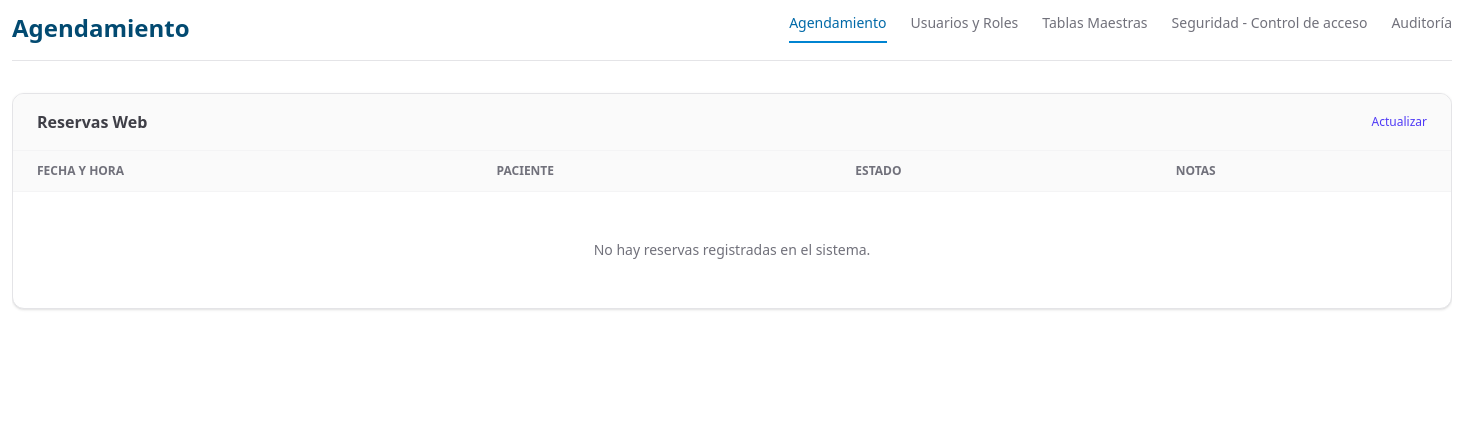
Test: DashboardContent › switches tabs
What coordinates should you click on to do the following:
click the button "Tablas Maestras"
I would click on:
 (1095, 28)
Its box is [1042,13,1148,43].
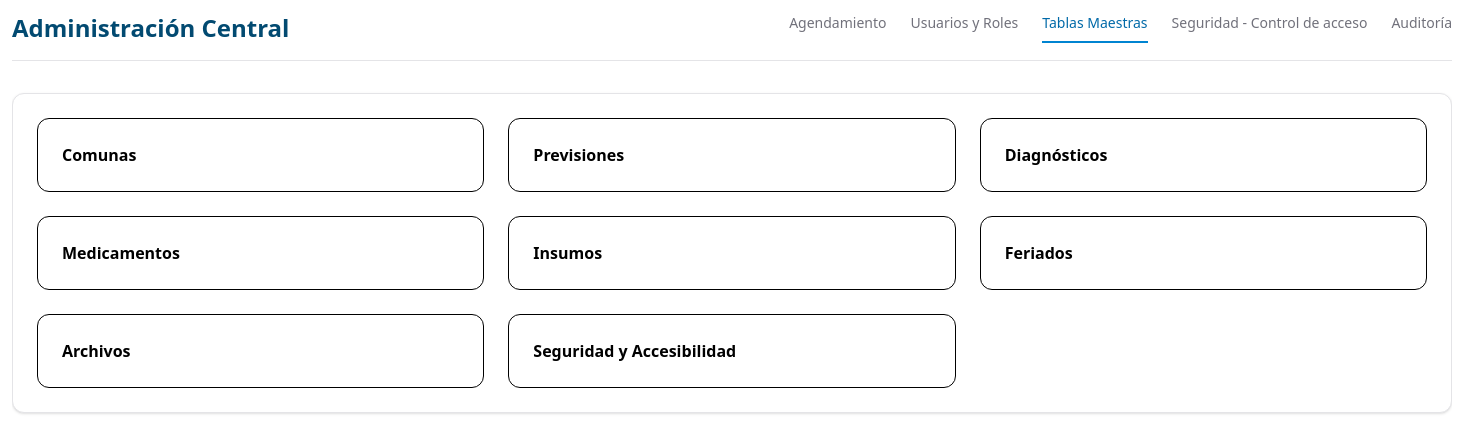
Check: the heading "Comunas" is shown, box [62,144,136,166]
